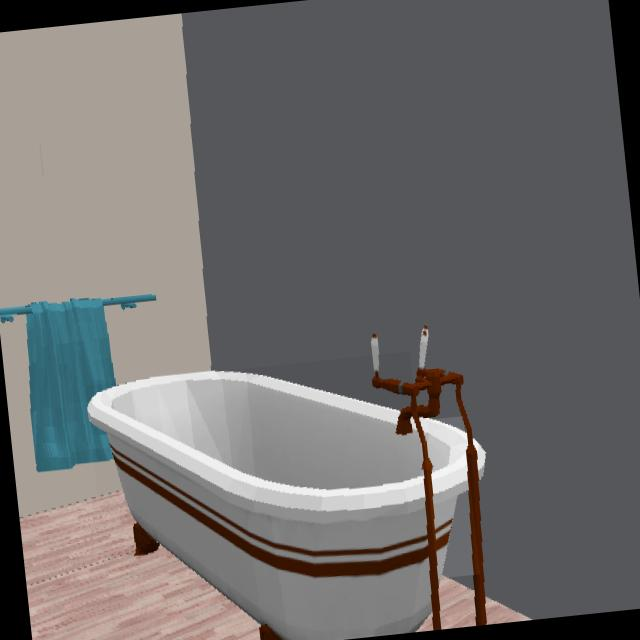bathtube: (88, 371, 431, 640), (423, 419, 468, 578)
